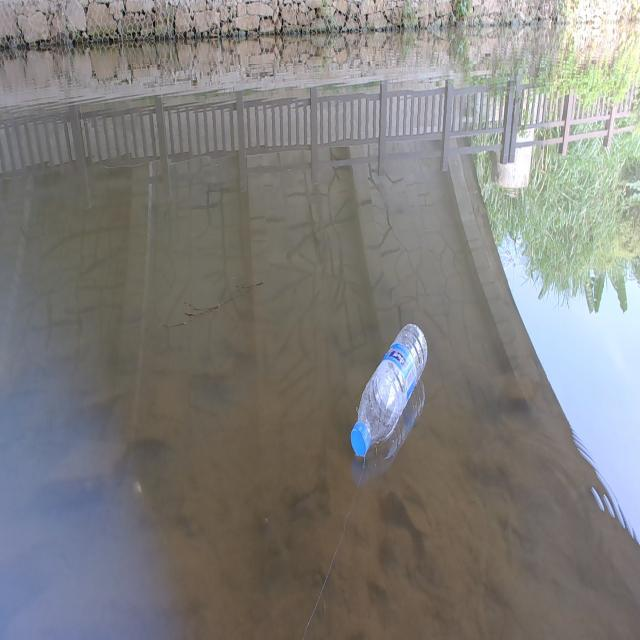Bottle: (350, 318, 428, 461)
